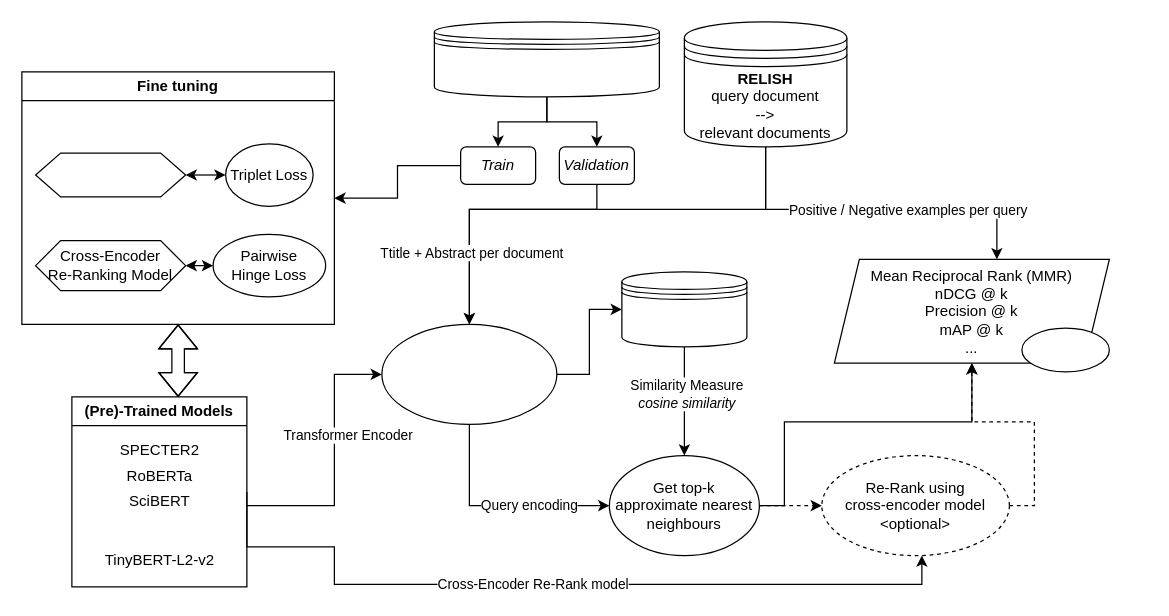
This 1169x616 diagram has some shape labels left out. The shapes that lost their labels are listed below. From the top down, each one's box as (x1, y1, x2, y2) in pixels, then its label:
(433, 21, 659, 97): SciDocs Cite citation query-pos.-neg. triplets
(34, 152, 186, 197): Embedding Model
(621, 271, 747, 347): Vector Database FAISS
(1021, 327, 1109, 372): Evaluation
(381, 323, 557, 424): Encode all documents into vector embeddings
